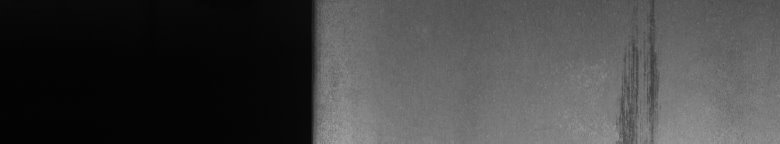ka: (613, 4, 664, 136)
